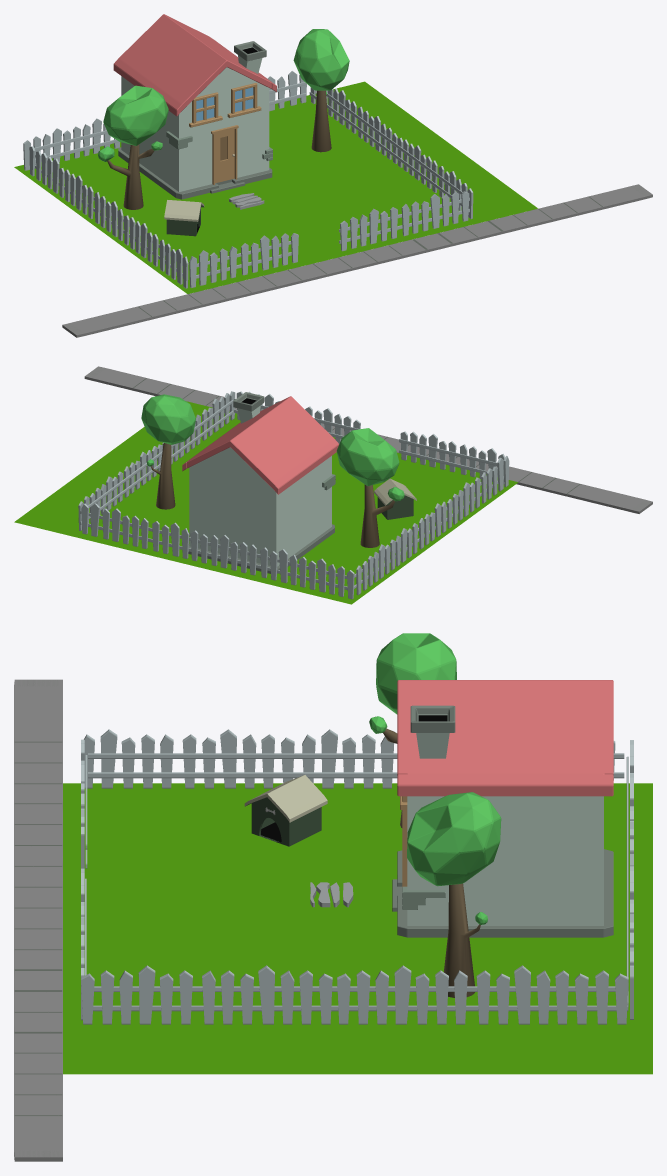
3 renders of one model, top to bottom at view 1: azimuth 30°, elevation 25°; view 2: azimuth 150°, elevation 25°; view 3: azimuth 270°, elevation 25°, orthographic. The views are drawn at different scales.
Visible parts, largest first — view 1: Grass Floor, House, Fence, Street Pavement, Tree, SecondTree, Dog House; view 2: Grass Floor, House, Fence, Street Pavement, Tree, SecondTree, Dog House; view 3: Grass Floor, House, Fence, Street Pavement, SecondTree, Tree, Dog House, Pavement.
Part boxes in pixels (x1,y1,x2,y2): Grass Floor: [14, 81, 537, 293]; House: [113, 14, 276, 199]; Fence: [23, 71, 473, 288]; Street Pavement: [62, 184, 652, 337]; Tree: [98, 85, 168, 209]; SecondTree: [293, 29, 349, 152]; Dog House: [164, 200, 204, 236]; Grass Floor: [14, 401, 517, 604]; House: [182, 392, 339, 573]; Fence: [78, 391, 509, 599]; Street Pavement: [84, 366, 652, 513]; Tree: [336, 428, 404, 547]; SecondTree: [141, 394, 195, 509]; Dog House: [374, 478, 416, 519]; Grass Floor: [63, 783, 652, 1074]; House: [392, 680, 613, 937]; Fence: [81, 729, 633, 1024]; Street Pavement: [14, 679, 62, 1161]; SecondTree: [407, 792, 501, 997]; Tree: [369, 633, 456, 827]; Dog House: [244, 775, 327, 846]; Pavement: [310, 882, 353, 907].
Bounding box in the file's own units: 13 × 4.98 × 23.
17 materials, 2 textured.
